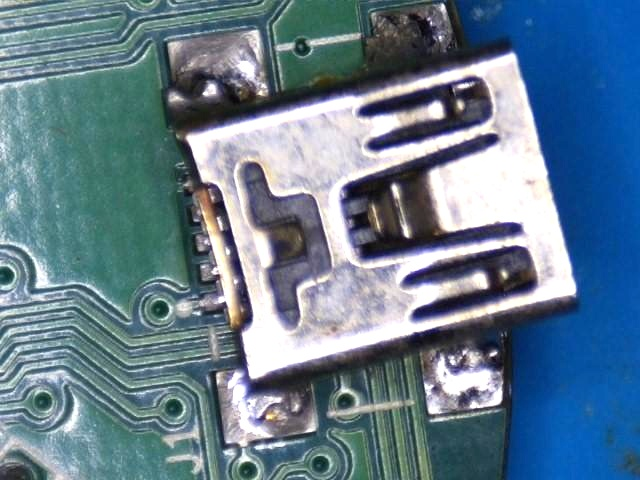pcb_defect: (162, 1, 581, 448)
